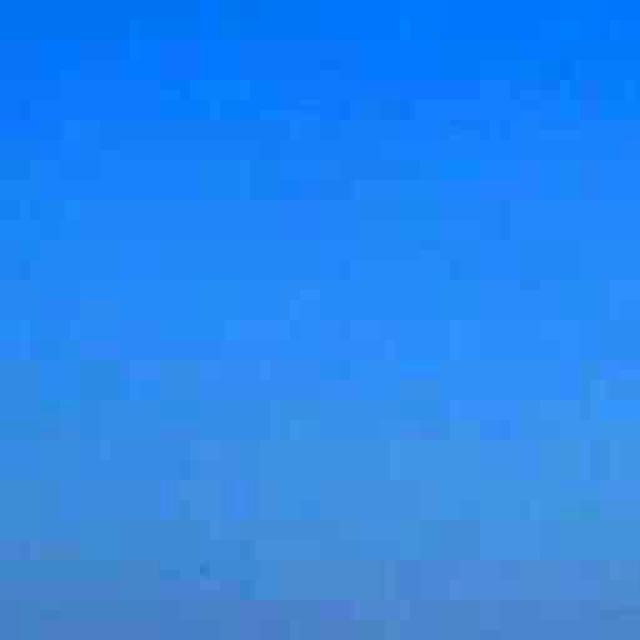bird: (624, 106, 640, 189)
